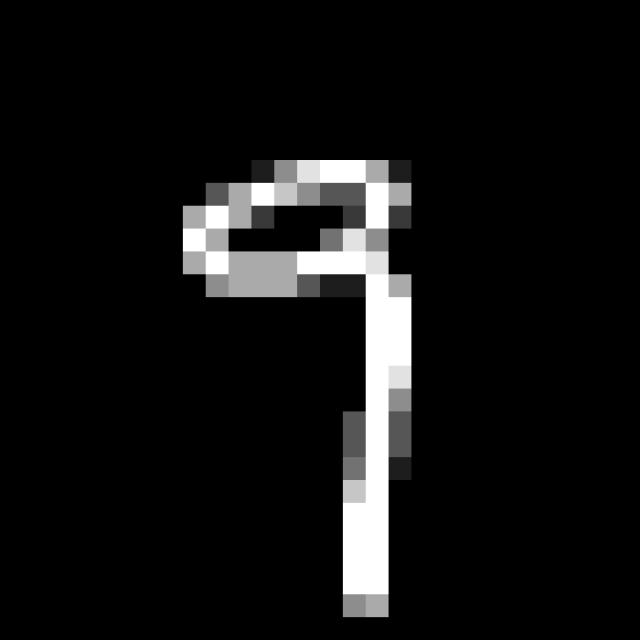nine -9-: (169, 144, 428, 631)
